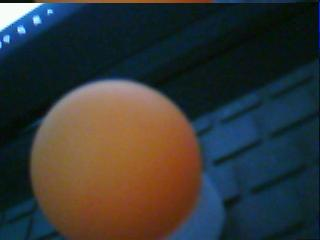oball: (30, 79, 200, 240)
